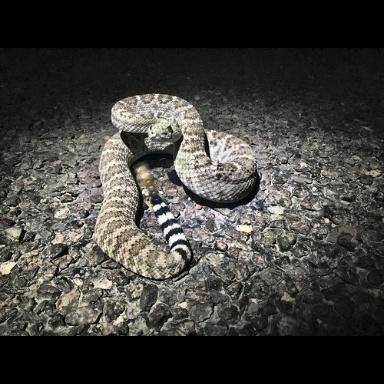snake: (95, 95, 261, 280)
